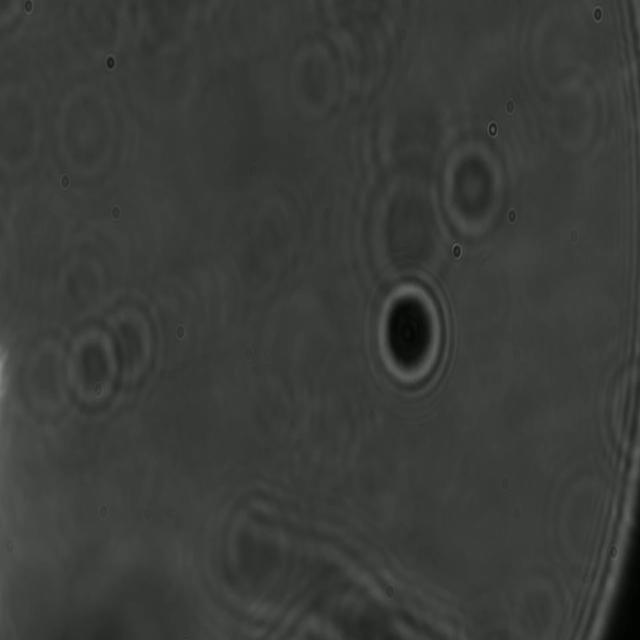DCELL: (368, 270, 454, 398)
